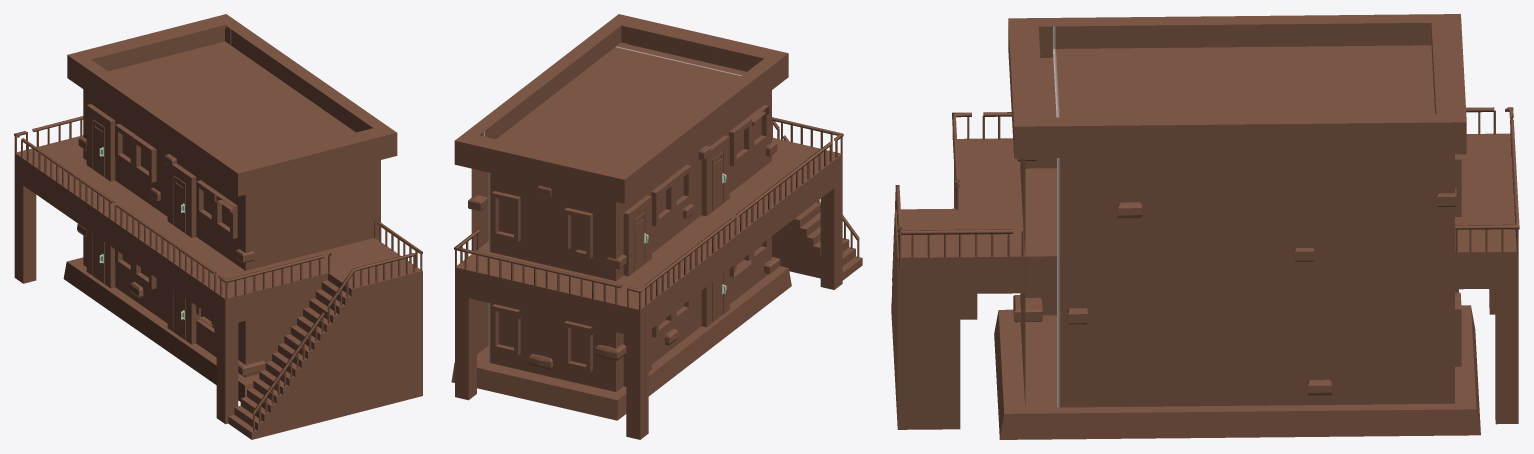
The model's file is Building_Pole.fbx.
3 renders of one model, left to right at view 1: azimuth 30°, elevation 25°; view 2: azimuth 150°, elevation 25°; view 3: azimuth 270°, elevation 25°, orthographic. The views are drawn at different scales.
Parts seen in each view (by area): view 1: DummyBuilding; view 2: DummyBuilding; view 3: DummyBuilding.
Boxes of the visible parts, x1,y1,x2,y2 form: DummyBuilding: [14, 14, 422, 439]; DummyBuilding: [451, 14, 862, 439]; DummyBuilding: [891, 14, 1519, 439].
Bounding box in the file's own units: 741 × 801 × 1450.
